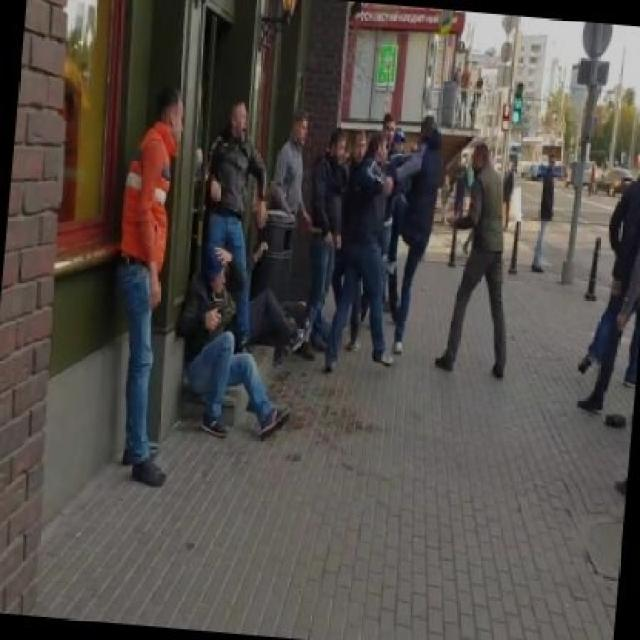fight: (318, 110, 449, 380)
non-fight: (82, 77, 198, 489), (424, 136, 534, 382), (173, 243, 291, 442), (570, 129, 638, 422)
